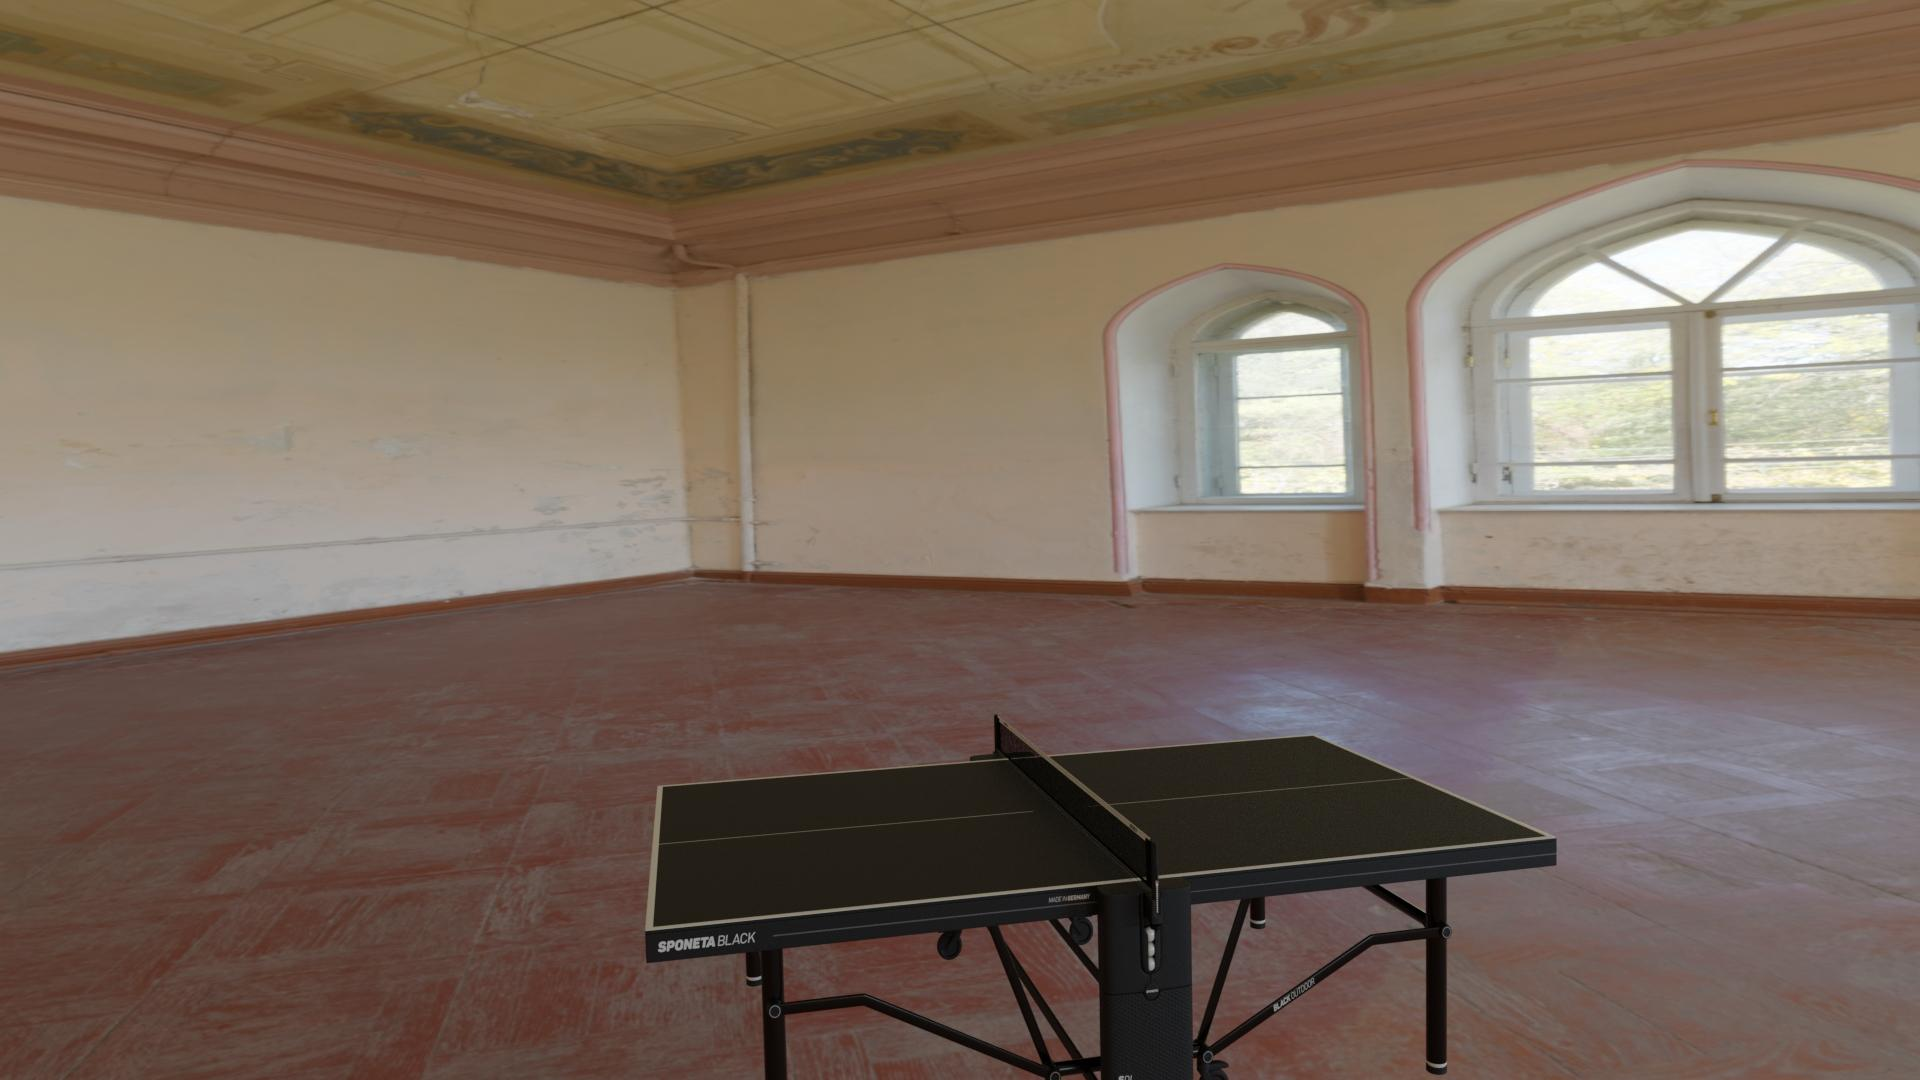table: (653, 736, 1547, 927)
